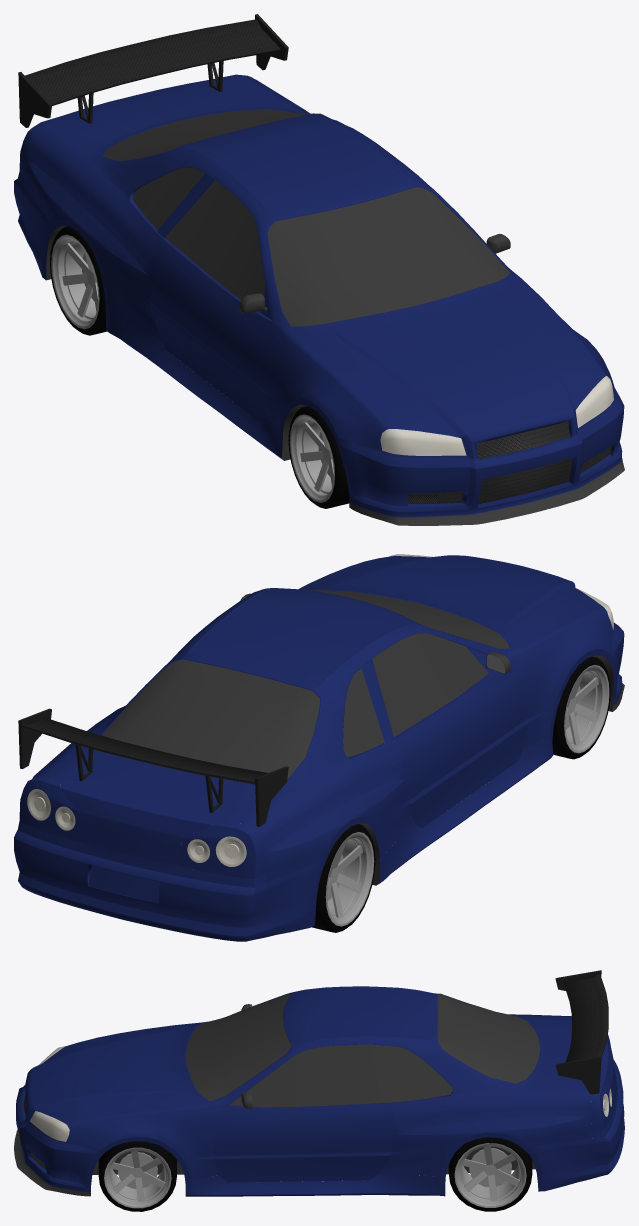
File: Car 8.fbx
The picture shows the model from 3 angles, top to bottom: view 1: azimuth 30°, elevation 25°; view 2: azimuth 150°, elevation 25°; view 3: azimuth 270°, elevation 25°; orthographic projection. The views are drawn at different scales.
Parts seen in each view (by area): view 1: Body, Wing, Grill, Rear Right Wheel, Front Right Wheel, Front light, Side Mirrors; view 2: Body, Wing, Rear Right Wheel, Front Right Wheel, Rear light; view 3: Body, Rear Left Wheel, Front Left Wheel, Wing, Front light.
Boxes of the visible parts, x1,y1,x2,y2 form: Body: (14,74,624,525); Wing: (18,14,288,127); Grill: (408,421,611,503); Rear Right Wheel: (50,226,106,335); Front Right Wheel: (288,406,349,508); Front light: (380,376,613,455); Side Mirrors: (239,233,510,313); Body: (14,555,624,941); Wing: (18,708,288,826); Rear Right Wheel: (312,824,375,932); Front Right Wheel: (552,656,610,759); Rear light: (27,789,246,866); Body: (14,986,624,1196); Rear Left Wheel: (448,1137,532,1211); Front Left Wheel: (98,1141,176,1211); Wing: (555,970,608,1094); Front light: (29,1046,69,1141).
Size of the model in its own units: 200 by 144 by 519.
Materials: 9 (6 with a texture image).
